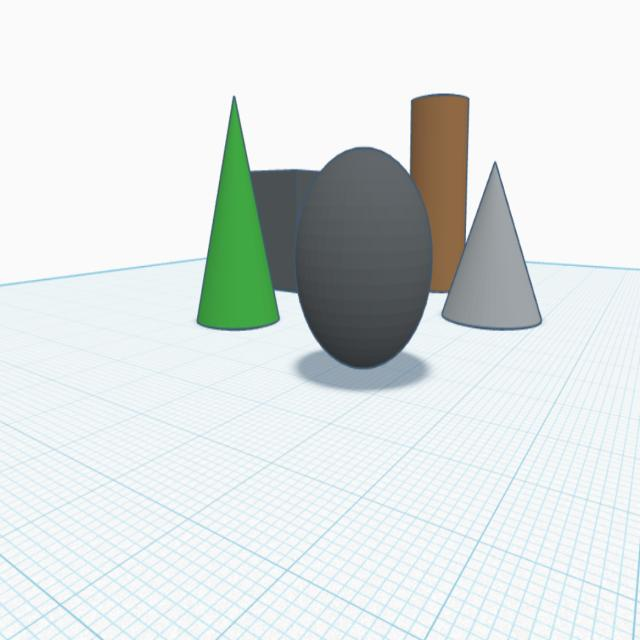cone: (194, 86, 284, 334), (439, 154, 544, 340)
sphere: (294, 141, 435, 377)
